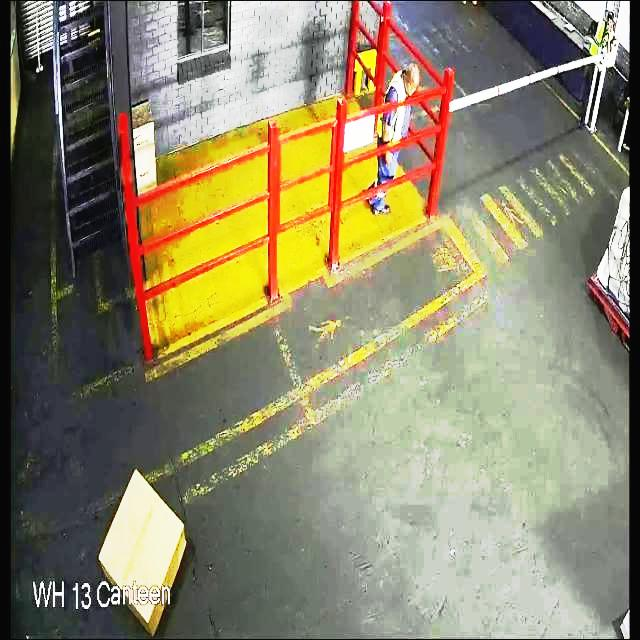Box: (100, 478, 192, 614)
